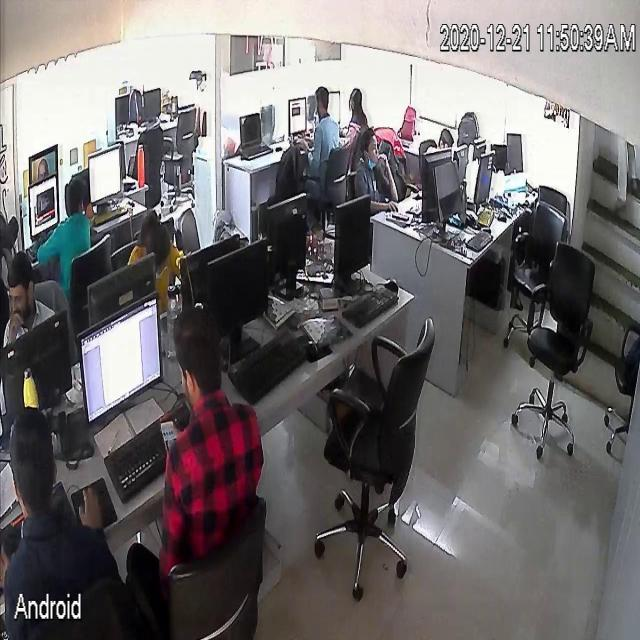chair: (327, 314, 435, 610), (511, 241, 597, 458), (136, 498, 268, 636), (508, 206, 566, 326), (38, 585, 134, 640), (606, 310, 640, 462), (68, 226, 112, 298), (304, 143, 350, 205), (162, 100, 196, 182), (384, 143, 416, 191), (175, 202, 202, 250), (413, 132, 434, 170)
keyboard: (224, 316, 303, 406), (108, 433, 164, 506), (340, 284, 400, 326), (466, 220, 494, 252), (25, 232, 51, 264), (241, 140, 275, 162)
monitor: (75, 294, 167, 422), (0, 306, 74, 420), (175, 223, 242, 325), (207, 241, 273, 332), (87, 250, 161, 327), (266, 190, 310, 281), (332, 189, 374, 279), (430, 148, 464, 230), (419, 142, 450, 231), (88, 143, 122, 209), (24, 178, 61, 235), (474, 143, 494, 205), (287, 92, 311, 142), (237, 113, 263, 150), (326, 88, 346, 126), (140, 87, 162, 119), (494, 136, 508, 183), (118, 99, 133, 128)
person: (161, 310, 260, 555), (4, 427, 116, 625), (40, 176, 92, 278), (132, 218, 180, 300), (312, 86, 340, 194), (360, 130, 393, 214), (6, 265, 49, 328), (347, 85, 363, 147), (436, 126, 454, 150)
phone: (161, 412, 176, 458), (393, 210, 411, 225)
